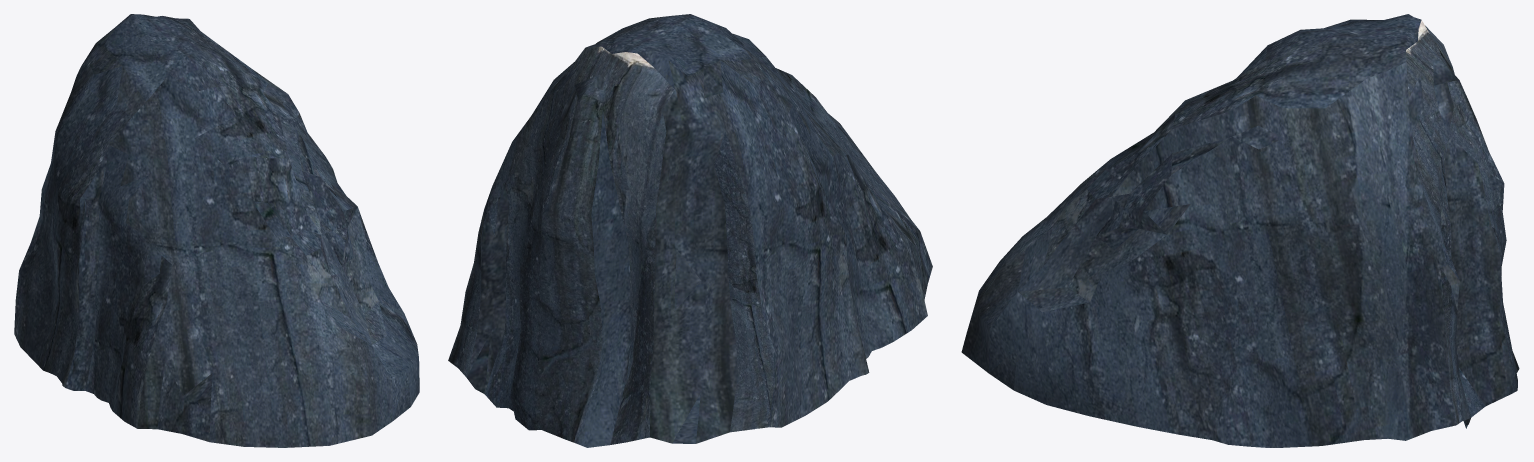
File: rockFace.fbx
3 renders of one model, left to right at view 1: azimuth 30°, elevation 25°; view 2: azimuth 150°, elevation 25°; view 3: azimuth 270°, elevation 25°, orthographic. The views are drawn at different scales.
Parts seen in each view (by area): view 1: Cube; view 2: Cube; view 3: Cube.
Part boxes in pixels (box(x1,y1,x2,y2)): Cube: box(14, 14, 419, 447); Cube: box(448, 14, 932, 447); Cube: box(961, 14, 1519, 447).
Size of the model in its own units: 3.93 by 4.05 by 5.75.
